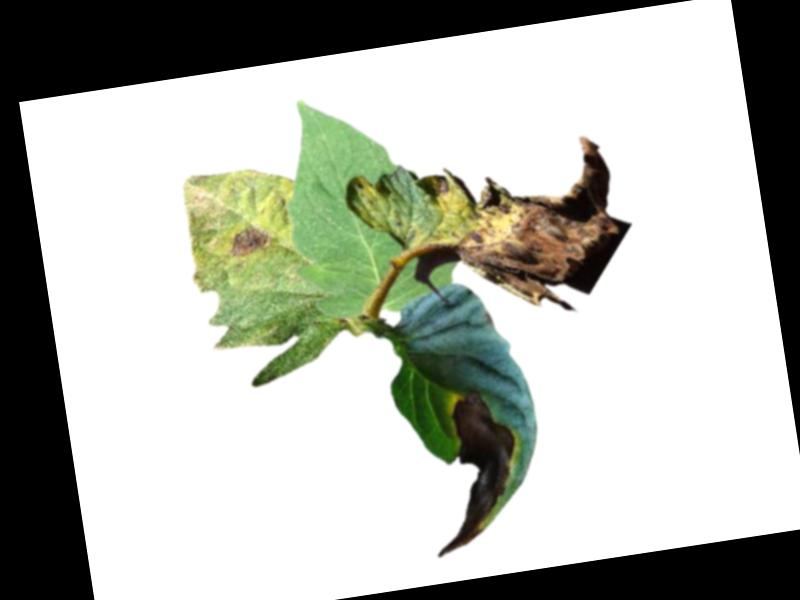Early_blight: (411, 129, 629, 322), (412, 383, 535, 557), (226, 224, 274, 257)
healthy: (275, 77, 466, 321)
